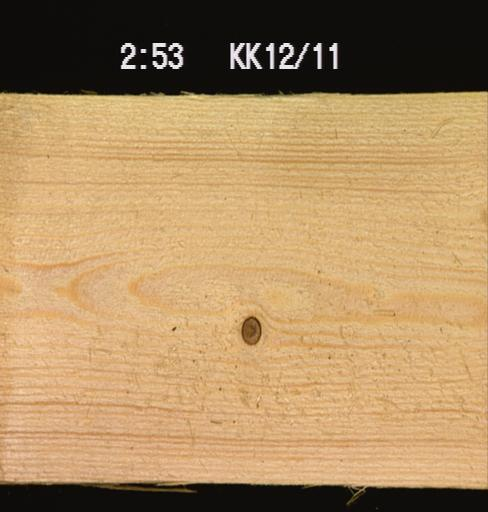dry_knot: (237, 312, 263, 347)
